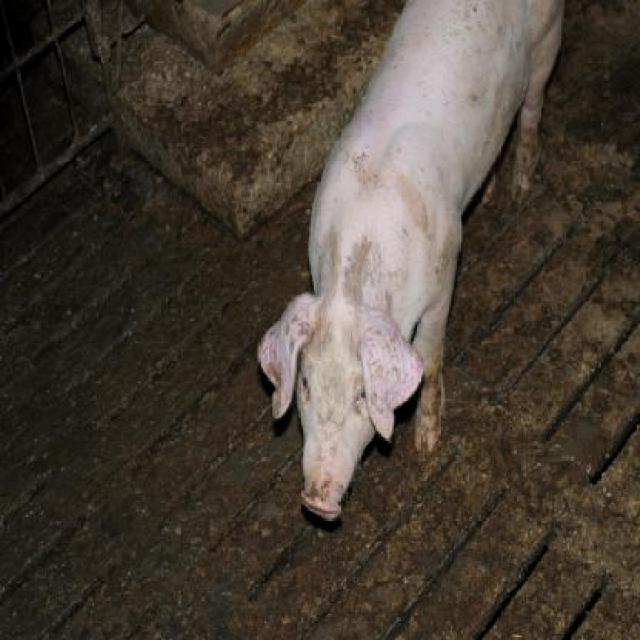pig: (257, 0, 568, 522)
